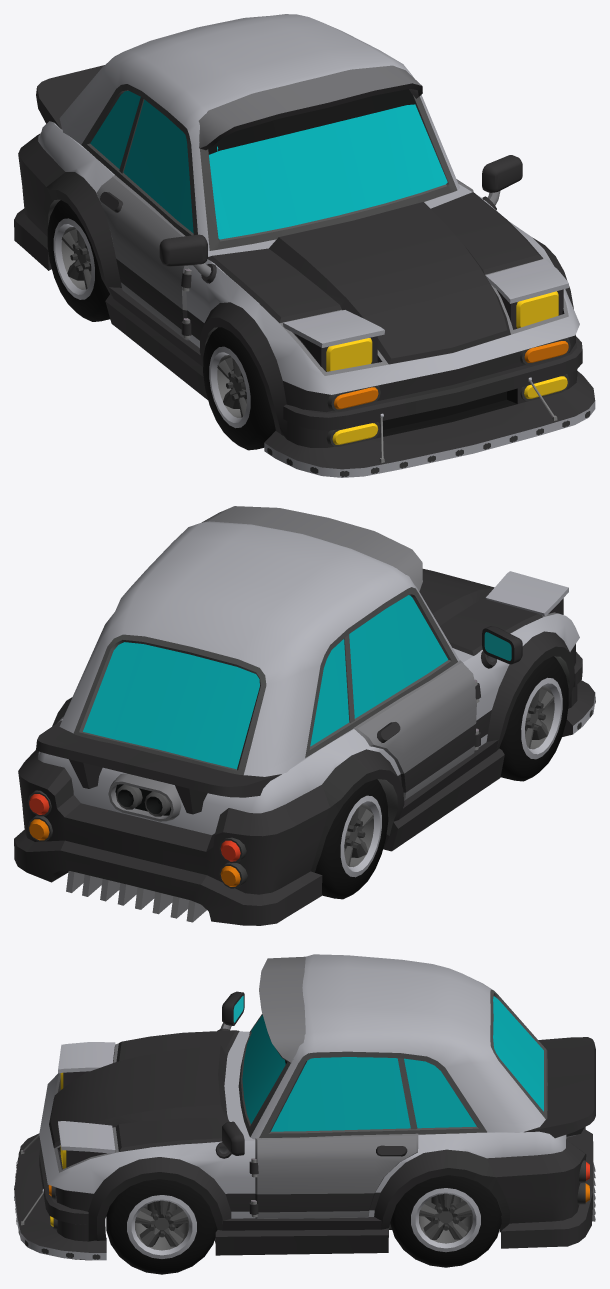
The model's file is VEH14-B.fbx.
The picture shows the model from 3 angles, top to bottom: view 1: azimuth 30°, elevation 25°; view 2: azimuth 150°, elevation 25°; view 3: azimuth 270°, elevation 25°; orthographic projection. The views are drawn at different scales.
Visible parts, largest first — view 1: VEH14_B, V14B_Wheel_FR, V14B_Wheel_BR; view 2: VEH14_B, V14B_Wheel_FR, V14B_Wheel_BR; view 3: VEH14_B, V14B_Wheel_FL, V14B_Wheel_BL.
Part boxes in pixels (x1,y1,x2,y2): VEH14_B: [14, 14, 595, 477]; V14B_Wheel_FR: [203, 327, 275, 450]; V14B_Wheel_BR: [47, 200, 109, 321]; VEH14_B: [14, 506, 595, 925]; V14B_Wheel_FR: [499, 656, 568, 781]; V14B_Wheel_BR: [315, 779, 388, 899]; VEH14_B: [14, 954, 595, 1260]; V14B_Wheel_FL: [106, 1179, 217, 1274]; V14B_Wheel_BL: [390, 1175, 501, 1267].
Bounding box in the file's own units: 270 × 194 × 448.
1 material, 1 textured.
